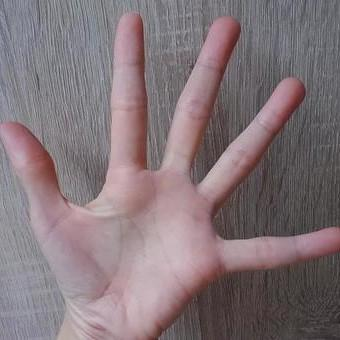pa-: (0, 12, 340, 309)
